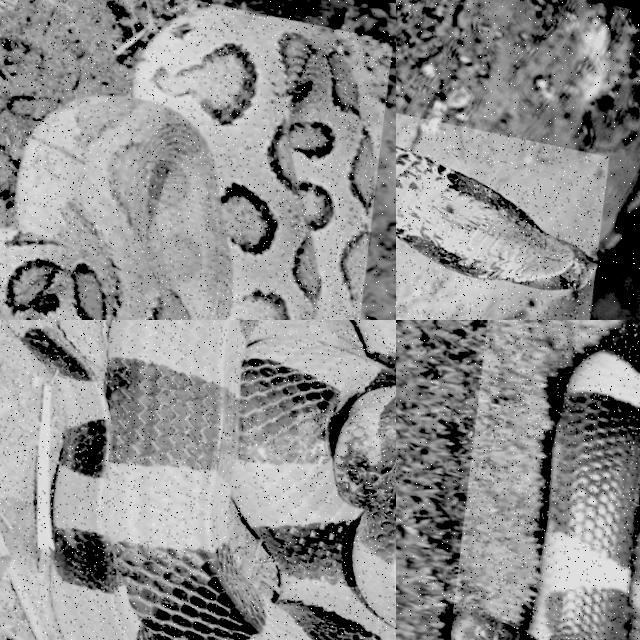Bungarus candidus: (450, 320, 639, 639)
Bungarus fasciatus: (7, 320, 395, 639)
Daboia siamensis: (0, 9, 374, 319)
Ophiophagus hannah: (396, 147, 596, 290)
